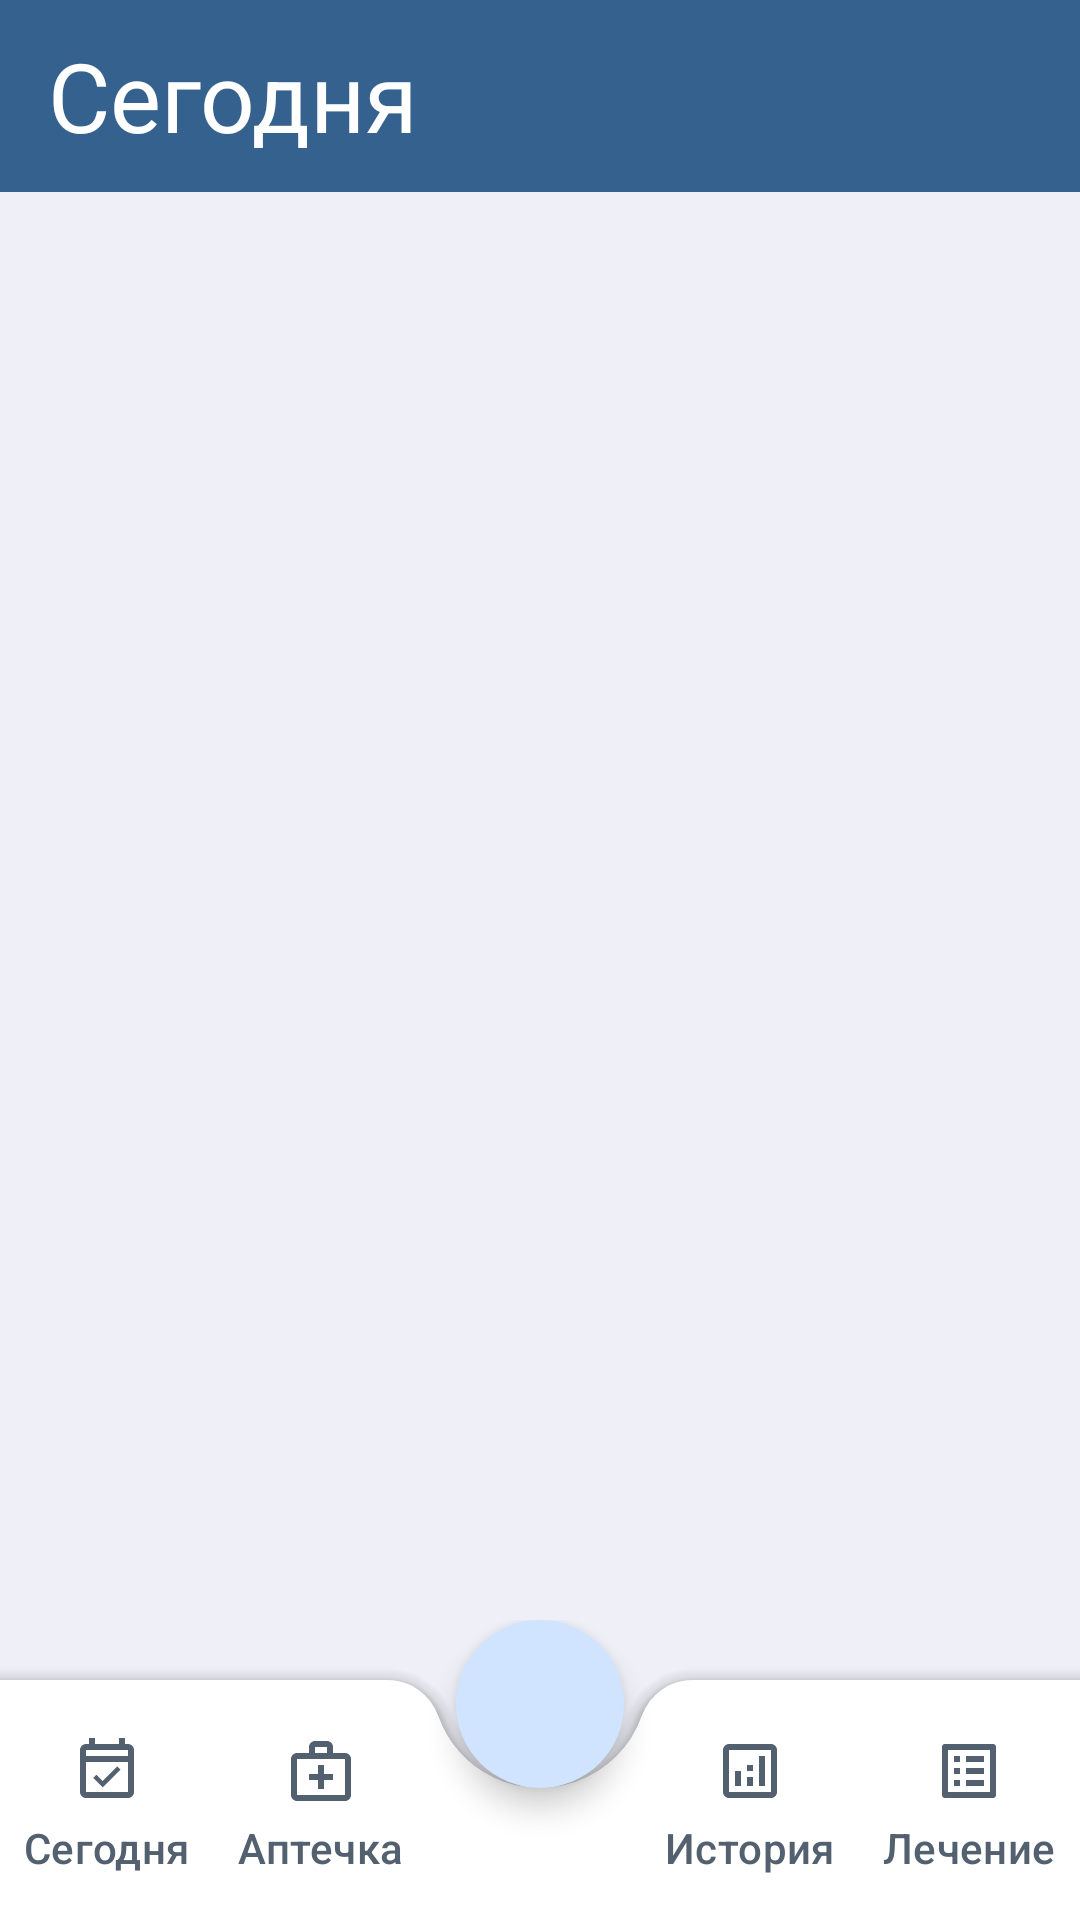

Named icons in this screenshot (1080px x 1920px) and their centers, point (x, y):
analytics: point (750, 1771)
event available: point (107, 1768)
list: point (969, 1771)
medical services: point (321, 1771)
